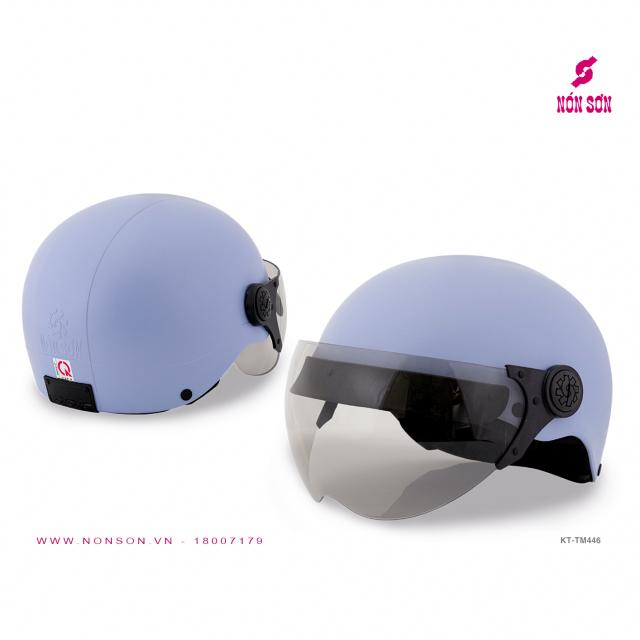Helmet: (287, 237, 608, 522), (12, 178, 287, 414)
